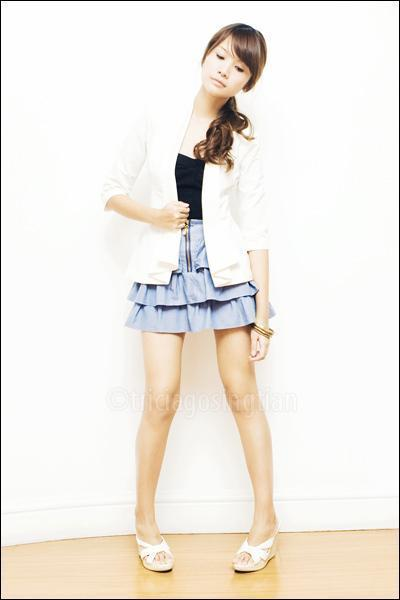jacket: (100, 113, 279, 288)
shirt: (175, 153, 204, 226)
shoe: (141, 540, 268, 569)
skirt: (125, 228, 258, 339)
